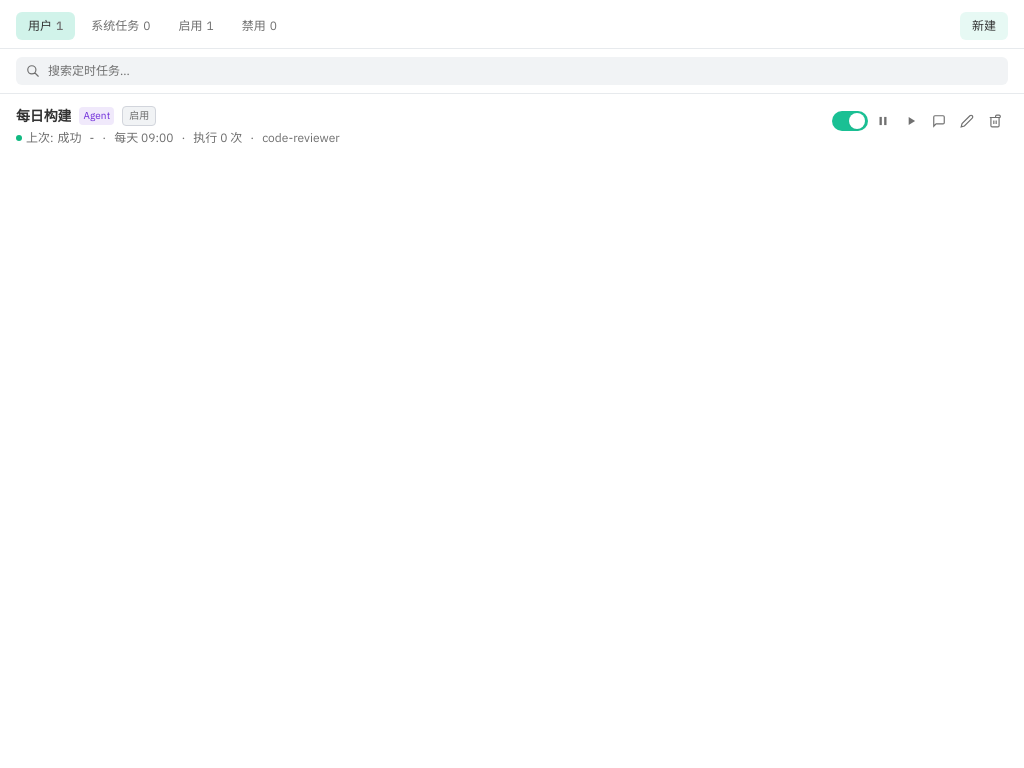
it: 删除 —— 有确认、告知不可撤销、失败有原因 › 删除抛异常（桥接层炸了）→ 同样有可读回声，不逃成未处理的 rejection
Click the button named "删除" at (995, 121), box [982, 108, 1008, 134]
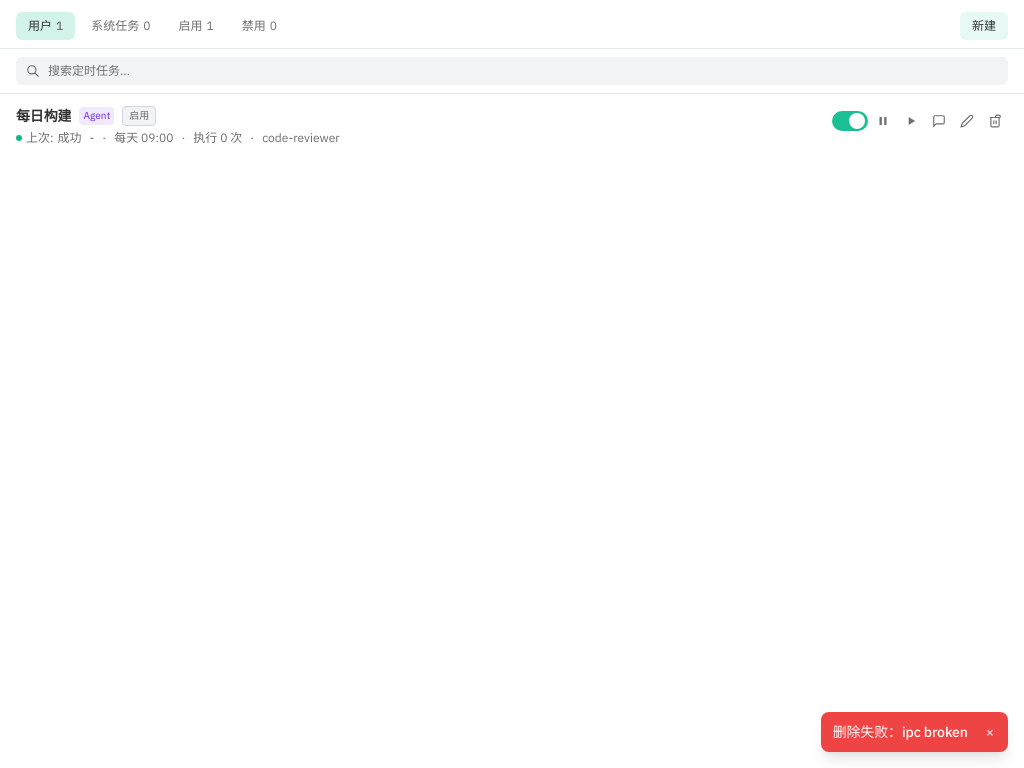
expect the message shows "删除失败": met, box [833, 723, 968, 741]
expect the message shows "ipc broken": met, box [833, 723, 968, 741]
